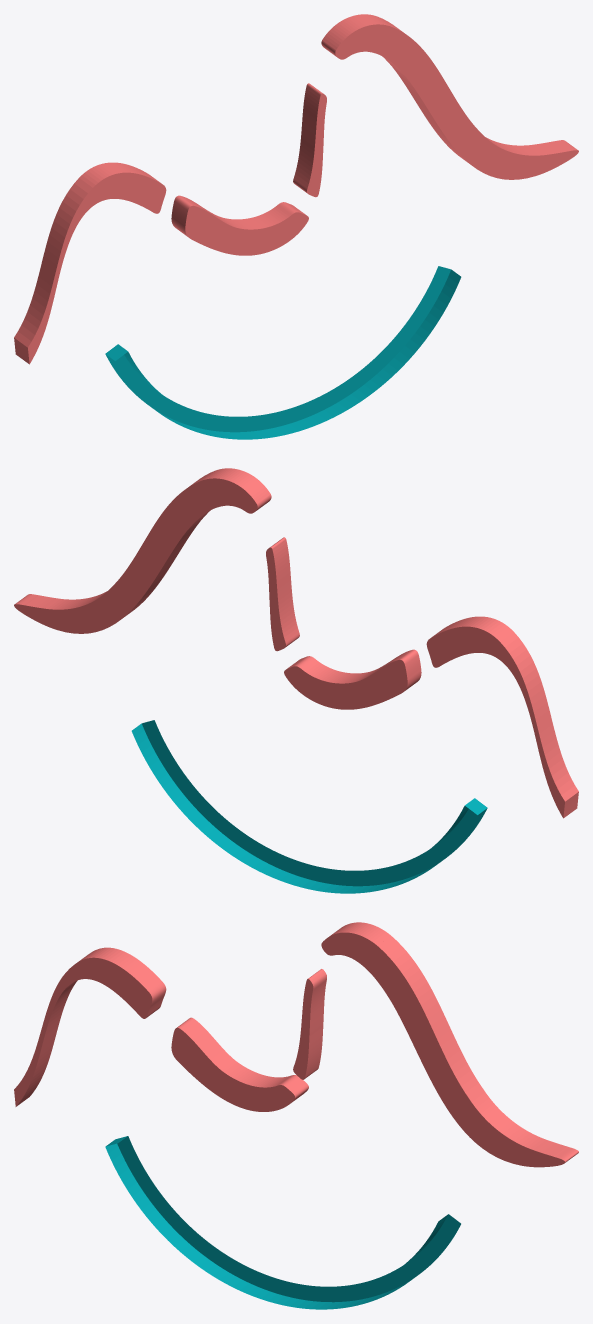
Rendered from add_sweep_teal.glb.
3 views of the same model, one above another, from view 1: azimuth 30°, elevation 25°; view 2: azimuth 150°, elevation 25°; view 3: azimuth 330°, elevation 25° (orthographic).
Parts seen in each view (by area): view 1: shape_03, virtual_sweep_teal, shape_00, shape_01, shape_02; view 2: shape_03, virtual_sweep_teal, shape_00, shape_01, shape_02; view 3: shape_03, virtual_sweep_teal, shape_00, shape_01, shape_02.
Boxes of the visible parts, left/top/right/bottom form: shape_03: left=321, top=14, right=578, bottom=179; virtual_sweep_teal: left=105, top=266, right=461, bottom=439; shape_00: left=14, top=162, right=166, bottom=364; shape_01: left=171, top=195, right=308, bottom=255; shape_02: left=293, top=83, right=326, bottom=197; shape_03: left=14, top=468, right=271, bottom=633; virtual_sweep_teal: left=131, top=720, right=487, bottom=893; shape_00: left=426, top=616, right=578, bottom=818; shape_01: left=284, top=649, right=421, bottom=709; shape_02: left=266, top=537, right=299, bottom=651; shape_03: left=321, top=922, right=578, bottom=1167; virtual_sweep_teal: left=105, top=1136, right=460, bottom=1309; shape_00: left=14, top=947, right=166, bottom=1106; shape_01: left=171, top=1017, right=308, bottom=1111; shape_02: left=293, top=969, right=326, bottom=1079.
Size of the model in its own units: 6.9 by 4.67 by 0.3.
